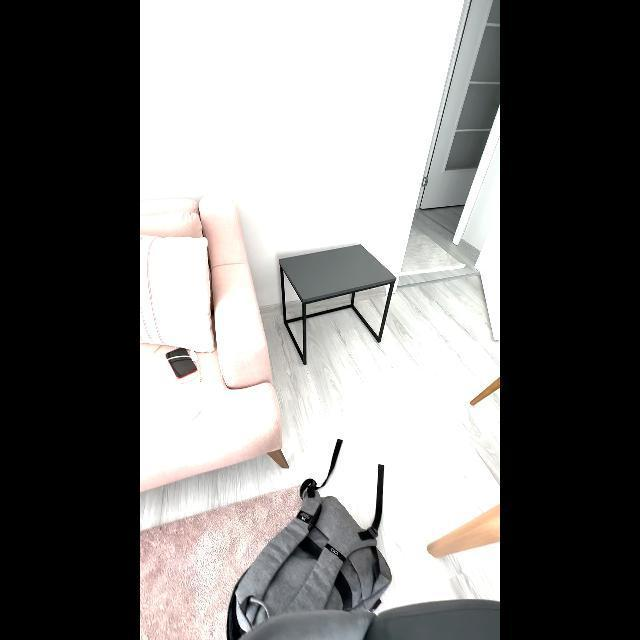coffee table: (270, 236, 402, 370)
